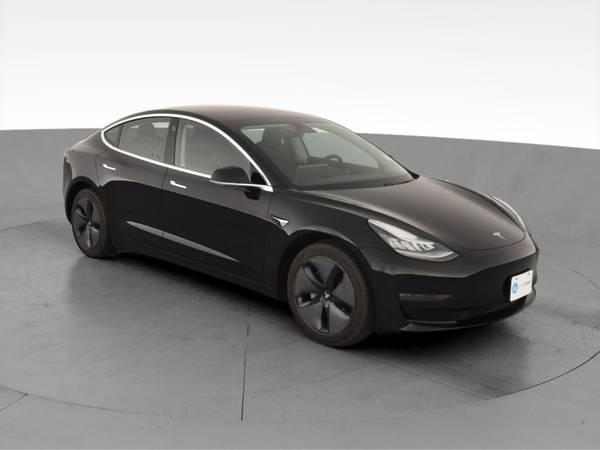Front_Bumper: (359, 231, 539, 335)
Front_Fender: (258, 183, 391, 299)
Front_Right_Door: (159, 168, 270, 294)
Front_Right_Window: (167, 115, 271, 192)
Front_Windshield: (239, 120, 420, 190)
Hood: (307, 173, 524, 246)
Rear_Fender: (61, 143, 108, 209)
Rear_Right_Door: (94, 150, 165, 254)
Rear_Right_Window: (100, 114, 173, 165)
Right_Headlight: (365, 214, 458, 260)
Roof: (69, 102, 332, 189)
Wheel: (288, 240, 367, 344), (66, 190, 108, 259)
